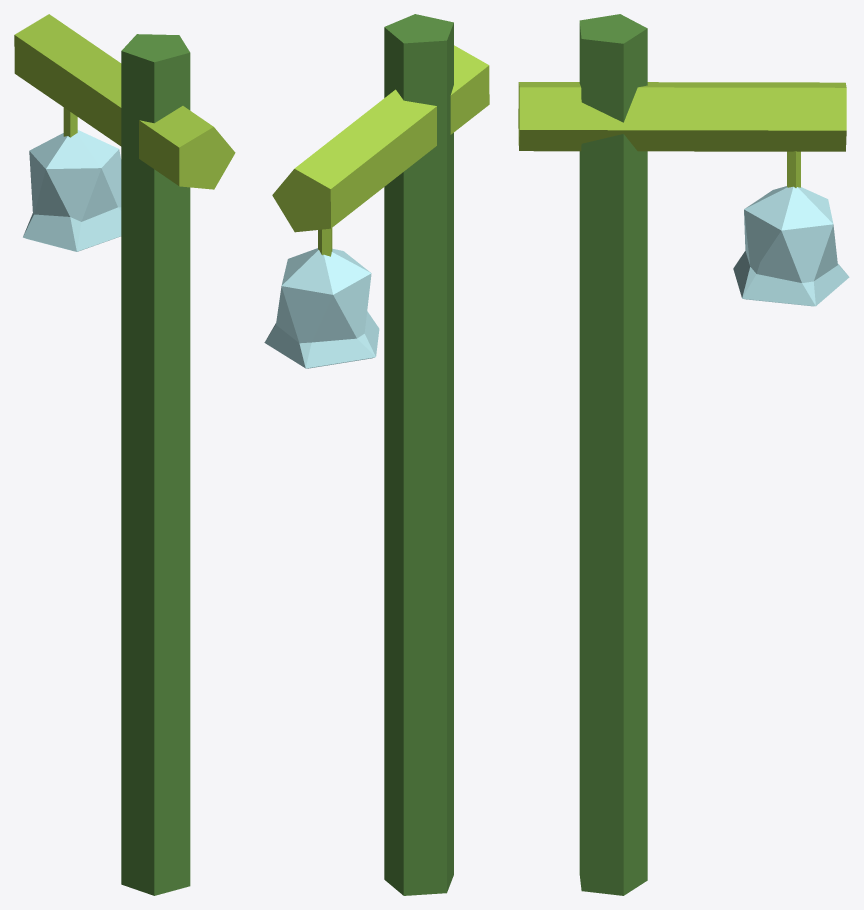
File: ENV_lamppost_color.fbx
3 renders of one model, left to right at view 1: azimuth 30°, elevation 25°; view 2: azimuth 150°, elevation 25°; view 3: azimuth 270°, elevation 25°, orthographic. The views are drawn at different scales.
Visible parts, largest first — view 1: Icosphere.012; view 2: Icosphere.012; view 3: Icosphere.012.
Boxes of the visible parts, <box> form: Icosphere.012: <box>14,14,235,895</box>; Icosphere.012: <box>264,14,489,895</box>; Icosphere.012: <box>518,14,849,895</box>.
Size of the model in its own units: 212 by 73.68 by 602.
